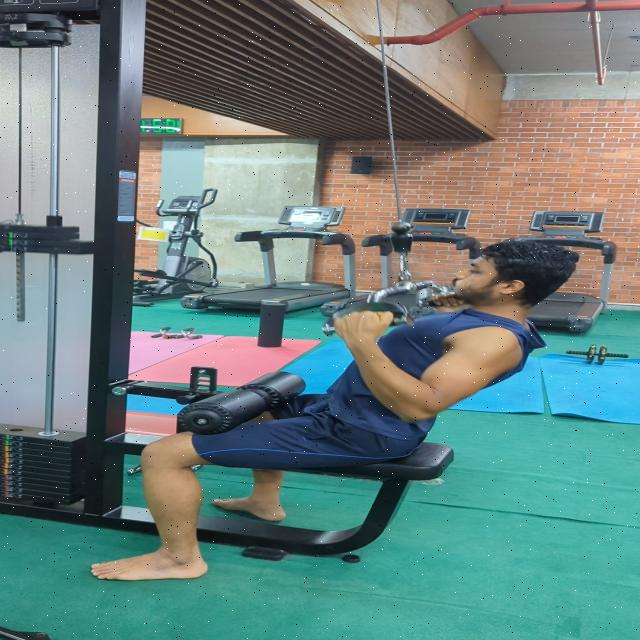Normal_LatPulldown: (74, 232, 593, 585)
